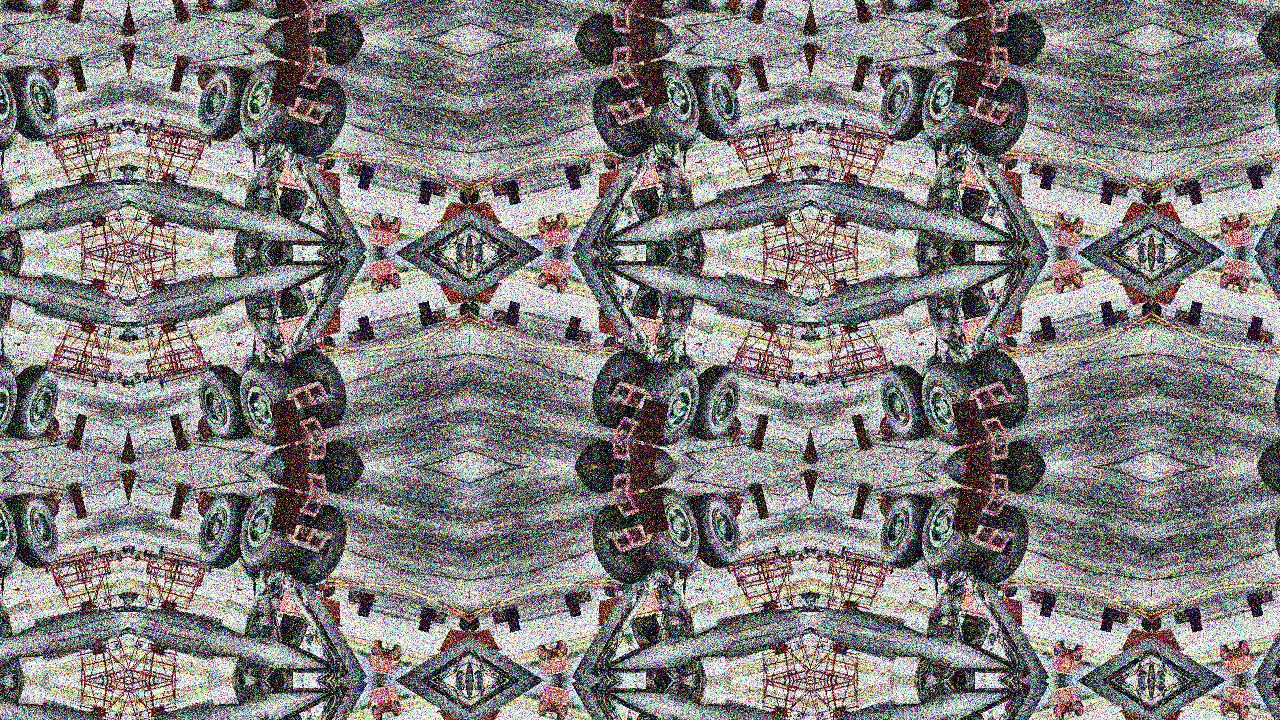chock: (606, 93, 664, 129), (957, 93, 1015, 129), (606, 377, 664, 413), (957, 377, 1015, 413), (606, 521, 664, 557), (957, 521, 1015, 557), (275, 93, 332, 129), (275, 377, 332, 413), (275, 521, 332, 557), (274, 59, 328, 93), (611, 59, 665, 93), (274, 413, 328, 447), (611, 413, 665, 447), (274, 487, 328, 521), (611, 487, 665, 521), (957, 59, 1010, 93), (957, 413, 1010, 447), (957, 487, 1010, 521), (605, 8, 659, 39), (962, 8, 1016, 39), (605, 39, 659, 70), (962, 39, 1016, 70), (605, 436, 659, 467), (962, 436, 1016, 467), (605, 467, 659, 498), (962, 467, 1016, 498), (280, 8, 333, 39), (280, 39, 333, 70), (280, 436, 333, 467), (280, 467, 333, 498), (274, 0, 328, 19), (611, 0, 665, 19), (957, 0, 1010, 19), (40, 61, 69, 92), (187, 61, 216, 92), (870, 61, 899, 92), (40, 414, 69, 445), (187, 414, 216, 445), (870, 414, 899, 445), (40, 489, 69, 520), (187, 489, 216, 520), (870, 489, 899, 520), (723, 61, 751, 92), (723, 414, 751, 445), (723, 489, 751, 520), (852, 2, 874, 25), (852, 53, 874, 76), (852, 430, 874, 453), (852, 481, 874, 504), (40, 0, 69, 17), (187, 0, 216, 17), (870, 0, 899, 17), (65, 2, 86, 25), (170, 2, 191, 25), (748, 2, 769, 25), (65, 53, 86, 76), (170, 53, 191, 76), (748, 53, 769, 76), (65, 430, 86, 453), (170, 430, 191, 453), (748, 430, 769, 453), (65, 481, 86, 504), (170, 481, 191, 504), (748, 481, 769, 504), (723, 0, 751, 17), (419, 180, 447, 197), (347, 162, 375, 179), (491, 180, 519, 197), (564, 162, 592, 179), (1102, 180, 1130, 197), (1029, 162, 1057, 179), (1174, 180, 1202, 197), (1247, 162, 1275, 179), (419, 309, 447, 326), (347, 327, 375, 344), (491, 309, 519, 326), (564, 327, 592, 344), (1102, 309, 1130, 326), (1029, 327, 1057, 344), (1174, 309, 1202, 326), (1247, 327, 1275, 344), (419, 608, 447, 625), (347, 590, 375, 607), (491, 608, 519, 625), (564, 590, 592, 607), (1102, 608, 1130, 625), (1029, 590, 1057, 607), (1174, 608, 1202, 625), (1247, 590, 1275, 607), (116, 14, 128, 38), (128, 14, 140, 38), (799, 14, 811, 38), (116, 40, 128, 64), (128, 40, 140, 64), (799, 40, 811, 64), (116, 442, 128, 466), (128, 442, 140, 466), (799, 442, 811, 466), (116, 468, 128, 492), (128, 468, 140, 492), (799, 468, 811, 492), (811, 14, 822, 38), (811, 40, 822, 64), (811, 442, 822, 466), (811, 468, 822, 492)
wheel: (627, 54, 708, 151), (913, 54, 994, 151), (627, 355, 708, 452), (913, 355, 994, 452), (627, 482, 708, 579), (913, 482, 994, 579), (231, 54, 311, 151), (231, 355, 311, 452), (231, 482, 311, 579), (585, 73, 656, 163), (965, 73, 1036, 163), (585, 343, 656, 433), (965, 343, 1036, 433), (585, 501, 656, 591), (965, 501, 1036, 591), (283, 73, 353, 163), (283, 343, 353, 433), (283, 501, 353, 591), (4, 61, 65, 145), (191, 61, 252, 145), (687, 61, 748, 145), (874, 61, 935, 145), (4, 361, 65, 445), (191, 361, 252, 445), (687, 361, 748, 445), (874, 361, 935, 445), (4, 489, 65, 573), (191, 489, 252, 573), (687, 489, 748, 573), (874, 489, 935, 573), (0, 54, 25, 151), (0, 355, 25, 452), (0, 482, 25, 579), (562, 9, 633, 39), (988, 9, 1059, 39), (562, 39, 633, 69), (988, 39, 1059, 69), (562, 437, 633, 467), (988, 437, 1059, 467), (562, 467, 633, 497), (988, 467, 1059, 497), (306, 9, 376, 39), (306, 39, 376, 69), (306, 437, 376, 467), (306, 467, 376, 497), (627, 0, 708, 24), (913, 0, 994, 24), (231, 0, 311, 24), (1268, 73, 1280, 163), (1268, 343, 1280, 433), (1268, 501, 1280, 591), (1245, 9, 1280, 39), (1245, 39, 1280, 69), (1245, 437, 1280, 467), (1245, 467, 1280, 497), (4, 0, 65, 17), (191, 0, 252, 17), (687, 0, 748, 17), (874, 0, 935, 17), (234, 129, 264, 152), (674, 129, 704, 152), (917, 129, 947, 152), (234, 354, 264, 377), (674, 354, 704, 377), (917, 354, 947, 377), (234, 557, 264, 580), (674, 557, 704, 580), (917, 557, 947, 580), (0, 0, 25, 24), (0, 129, 22, 152), (0, 354, 22, 377), (0, 557, 22, 580), (585, 0, 656, 5), (965, 0, 1036, 5), (283, 0, 353, 5)
